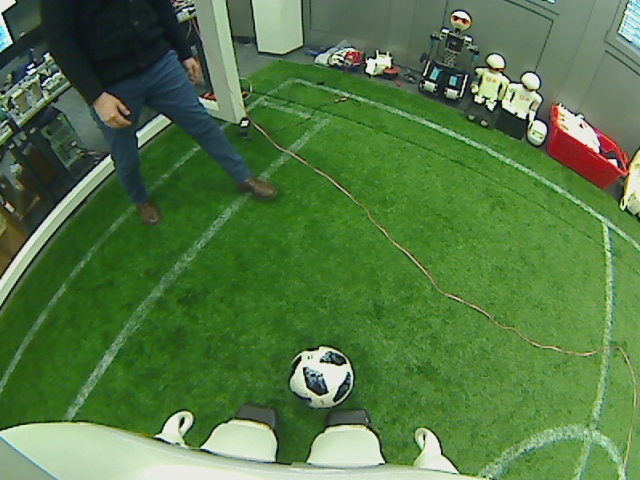ball: (287, 343, 355, 410)
